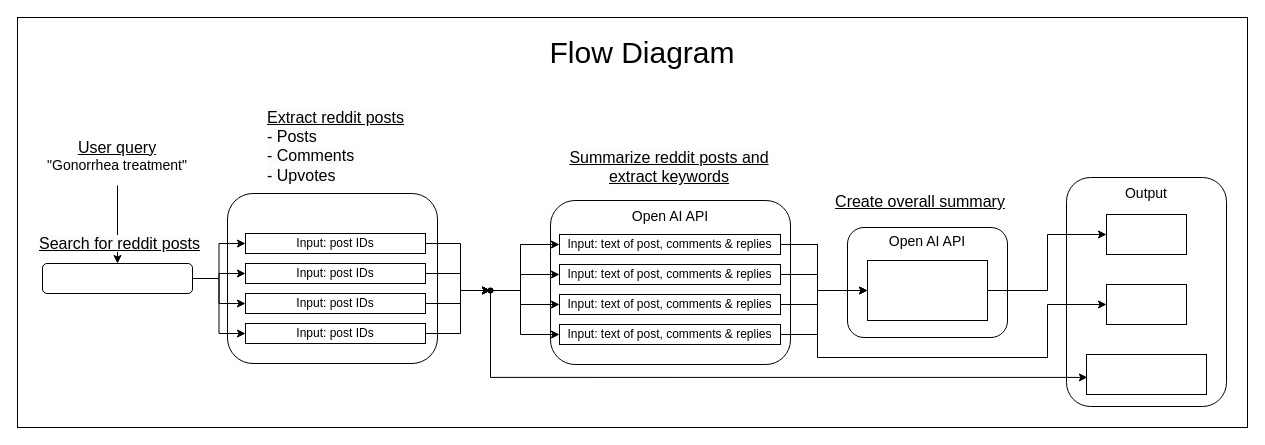
The diagram is 1265 pixels wide and 445 high, and some of its shapes have lost their labels. Each missing label, with the box of its shape:
Input: post summaries: (866, 260, 988, 320)
Keywords: (1106, 284, 1186, 324)
Overall post summary: (1106, 214, 1186, 254)
PRAW API post retrieval: (226, 192, 438, 364)
PRAW API search: (42, 262, 192, 294)
Tabular post & comment data: (1086, 354, 1206, 394)
